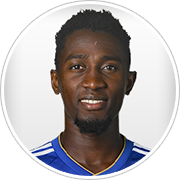smile: (78, 95, 110, 110)
